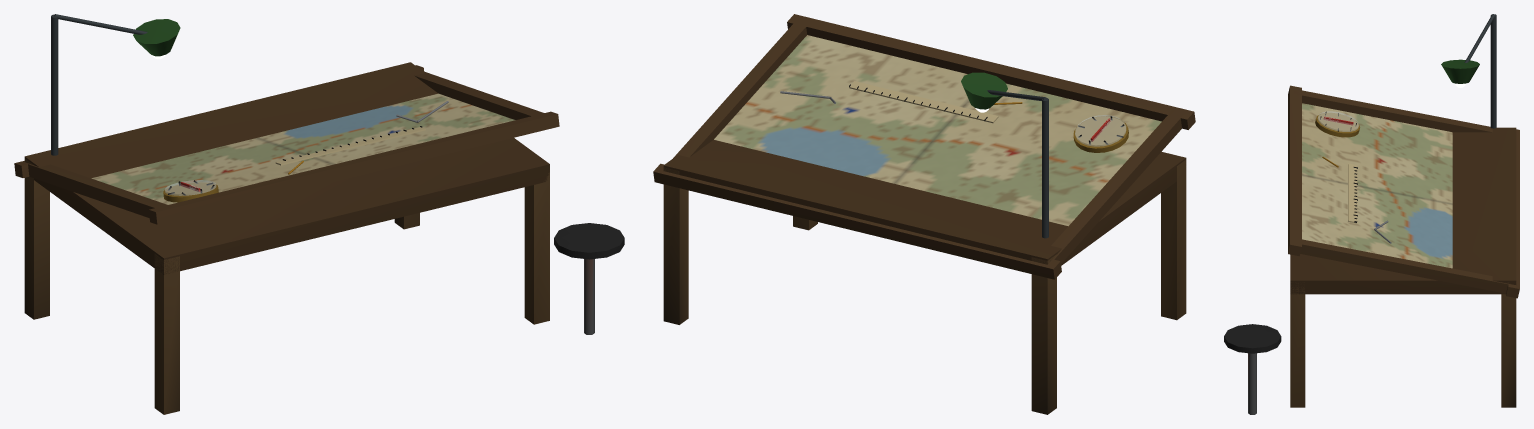
The model's file is map-table.glb.
3 views of the same model, side by side, from view 1: azimuth 30°, elevation 25°; view 2: azimuth 150°, elevation 25°; view 3: azimuth 270°, elevation 25° (orthographic). The views are drawn at different scales.
Visible parts, largest first — view 1: table, ruler; view 2: table, ruler; view 3: table, ruler.
Boxes of the visible parts, <box> form: table: <box>14,14,624,414</box>; ruler: <box>275,126,425,165</box>; table: <box>653,14,1195,414</box>; ruler: <box>849,81,998,123</box>; table: <box>1224,14,1519,414</box>; ruler: <box>1348,163,1357,223</box>.
Bounding box in the file's own units: 2.74 × 1.81 × 1.96.
